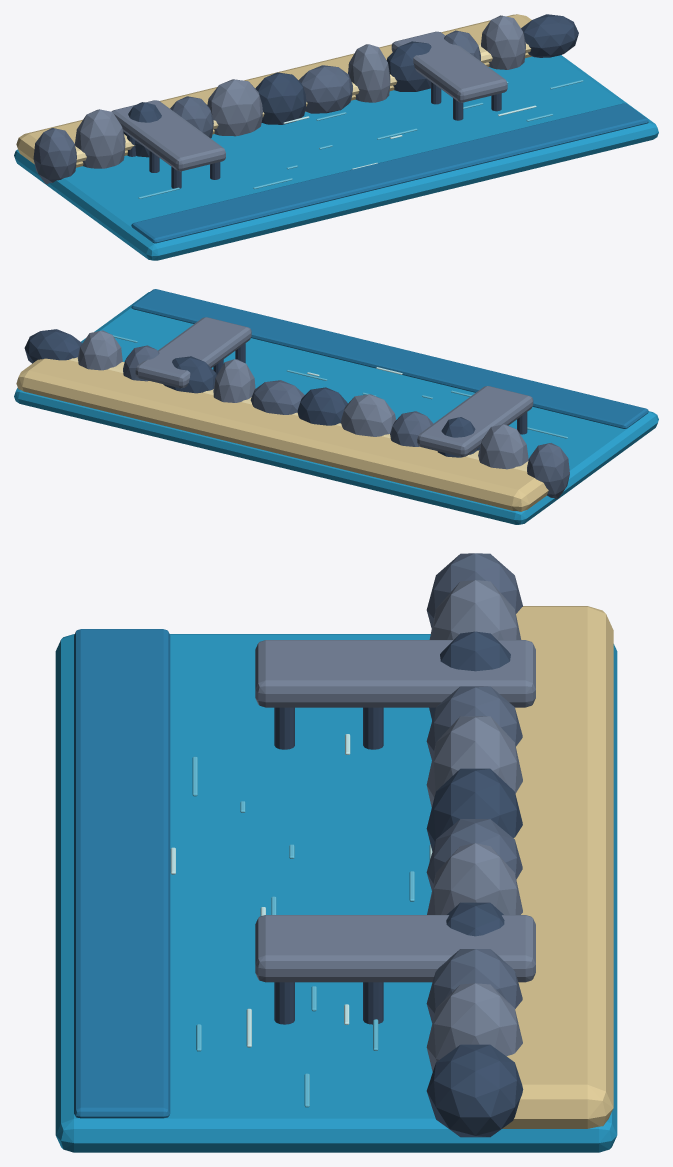
The model's file is coast.glb.
The picture shows the model from 3 angles, top to bottom: view 1: azimuth 30°, elevation 25°; view 2: azimuth 150°, elevation 25°; view 3: azimuth 270°, elevation 25°; orthographic projection. The views are drawn at different scales.
Parts seen in each view (by area): view 1: WaterVolume, DeepWaterBand, PierDeck.001, PierDeck, SandCoast, CoastalRock_04, CoastalRock_01, CoastalRock_05, CoastalRock_06, CoastalRock_07, CoastalRock_11, CoastalRock_10 (+6 smaller); view 2: WaterVolume, SandCoast, DeepWaterBand, PierDeck.001, PierDeck, CoastalRock_04, CoastalRock_01, CoastalRock_00, CoastalRock_05, CoastalRock_11, CoastalRock_07, CoastalRock_06 (+6 smaller); view 3: WaterVolume, DeepWaterBand, SandCoast, PierDeck, PierDeck.001, CoastalRock_11, CoastalRock_10, CoastalRock_07, CoastalRock_04, CoastalRock_05, CoastalRock_01, CoastalRock_09 (+9 smaller).
Boxes of the visible parts, <box> form: WaterVolume: <box>14,55,658,260</box>; DeepWaterBand: <box>131,103,648,243</box>; PierDeck.001: <box>391,31,507,102</box>; PierDeck: <box>111,100,225,171</box>; SandCoast: <box>16,14,531,167</box>; CoastalRock_04: <box>207,79,262,136</box>; CoastalRock_01: <box>74,109,125,168</box>; CoastalRock_05: <box>255,72,306,124</box>; CoastalRock_06: <box>298,65,352,113</box>; CoastalRock_07: <box>348,44,390,102</box>; CoastalRock_11: <box>521,14,578,57</box>; CoastalRock_10: <box>481,15,525,69</box>; WaterVolume: <box>14,292,658,524</box>; SandCoast: <box>16,358,548,511</box>; DeepWaterBand: <box>131,289,648,428</box>; PierDeck.001: <box>135,317,251,388</box>; PierDeck: <box>417,386,533,456</box>; CoastalRock_04: <box>341,394,395,436</box>; CoastalRock_01: <box>478,424,528,469</box>; CoastalRock_00: <box>527,443,569,499</box>; CoastalRock_05: <box>297,387,347,425</box>; CoastalRock_11: <box>24,329,82,363</box>; CoastalRock_07: <box>213,359,255,402</box>; CoastalRock_06: <box>250,380,304,414</box>; WaterVolume: <box>55,634,617,1152</box>; DeepWaterBand: <box>74,629,170,1118</box>; SandCoast: <box>502,606,613,1128</box>; PierDeck: <box>255,640,535,707</box>; PierDeck.001: <box>255,915,535,982</box>; CoastalRock_11: <box>426,1044,523,1137</box>; CoastalRock_10: <box>426,983,522,1071</box>; CoastalRock_07: <box>427,843,522,914</box>; CoastalRock_04: <box>426,716,522,807</box>; CoastalRock_05: <box>426,768,522,851</box>; CoastalRock_01: <box>429,580,521,639</box>; CoastalRock_09: <box>426,949,522,1022</box>.
Size of the model in its own units: 8.41 by 1.1 by 3.8.
